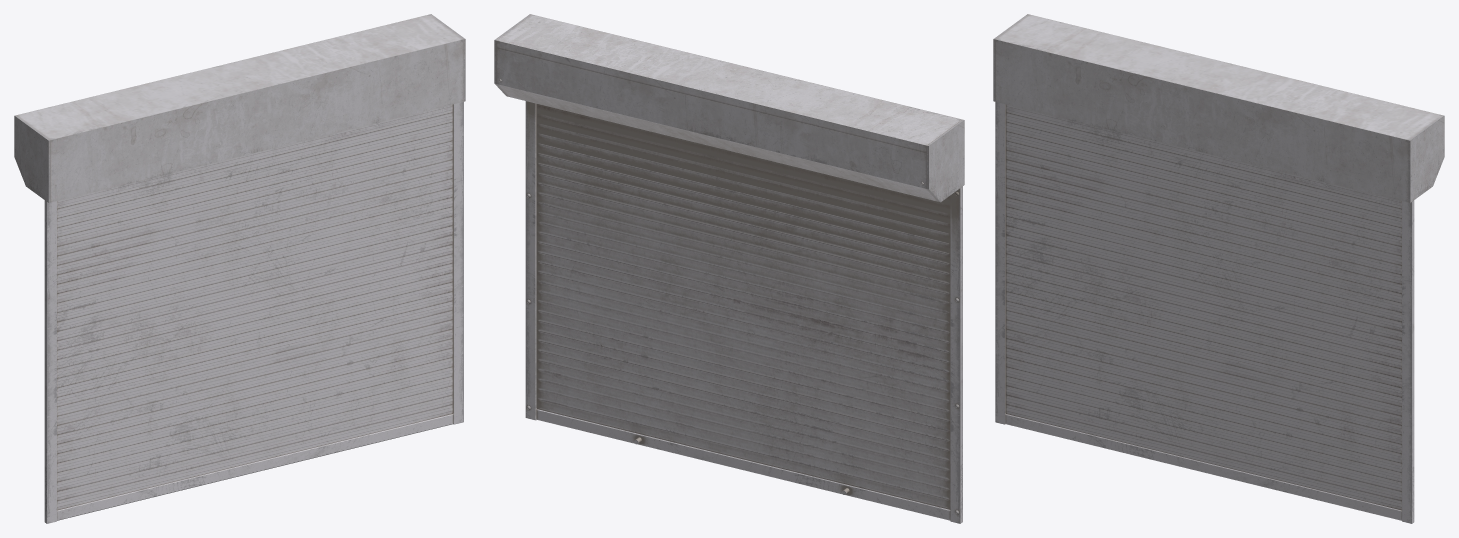
Rendered from Rollershutter_W.fbx.
The picture shows the model from 3 angles, left to right: view 1: azimuth 30°, elevation 25°; view 2: azimuth 150°, elevation 25°; view 3: azimuth 330°, elevation 25°; orthographic projection. The views are drawn at different scales.
Visible parts, largest first — view 1: Rollershutter_W; view 2: Rollershutter_W; view 3: Rollershutter_W.
Boxes of the visible parts, x1,y1,x2,y2 form: Rollershutter_W: (14, 14, 465, 523); Rollershutter_W: (494, 14, 964, 523); Rollershutter_W: (993, 14, 1444, 523).
Size of the model in its own units: 290 by 255 by 41.61.
